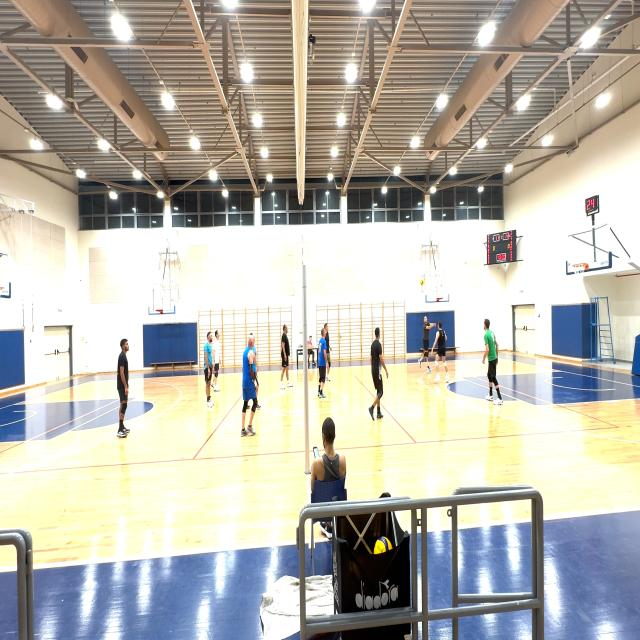volleyball: (373, 536, 392, 555), (420, 276, 425, 284)
